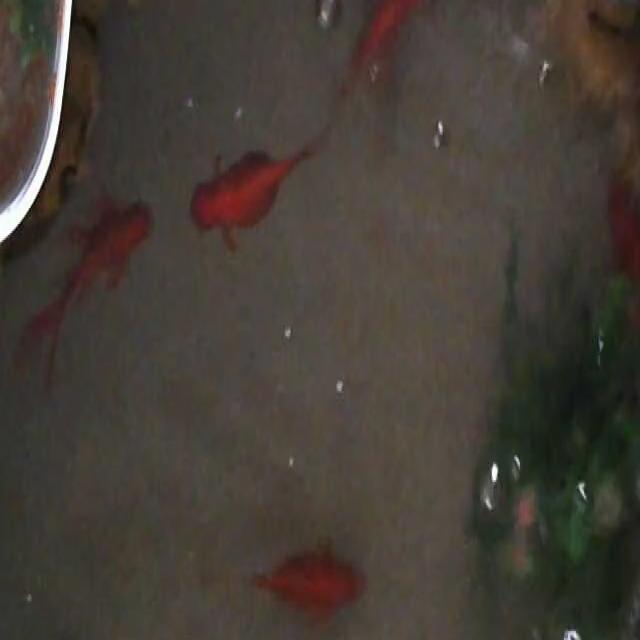fish: (16, 196, 152, 383), (188, 138, 321, 250), (341, 0, 434, 103), (248, 545, 366, 621), (606, 172, 640, 345)
